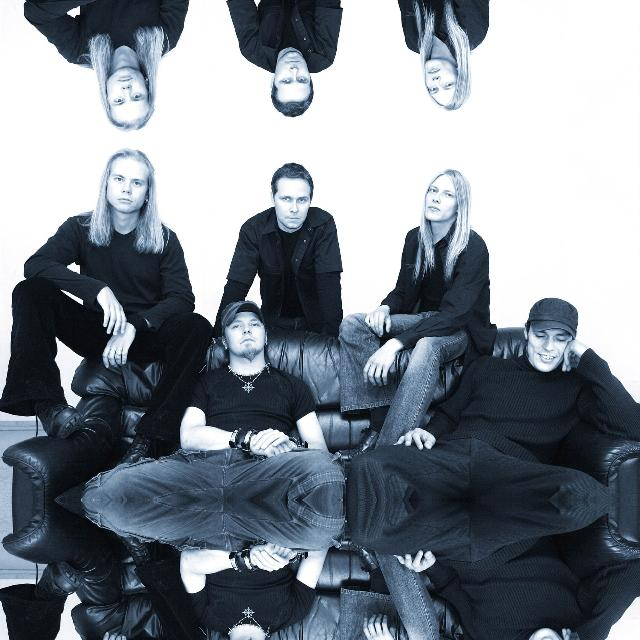person: (376, 160, 494, 352), (236, 162, 360, 338), (56, 140, 174, 292), (56, 0, 174, 139), (235, 0, 360, 118), (376, 0, 494, 119), (205, 314, 293, 464), (205, 536, 293, 640), (512, 306, 590, 416), (512, 583, 590, 640)
